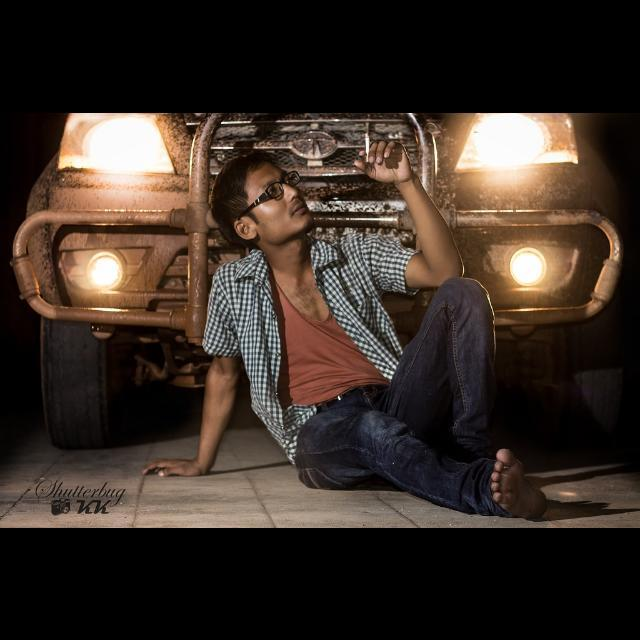rokok: (362, 131, 372, 157)
